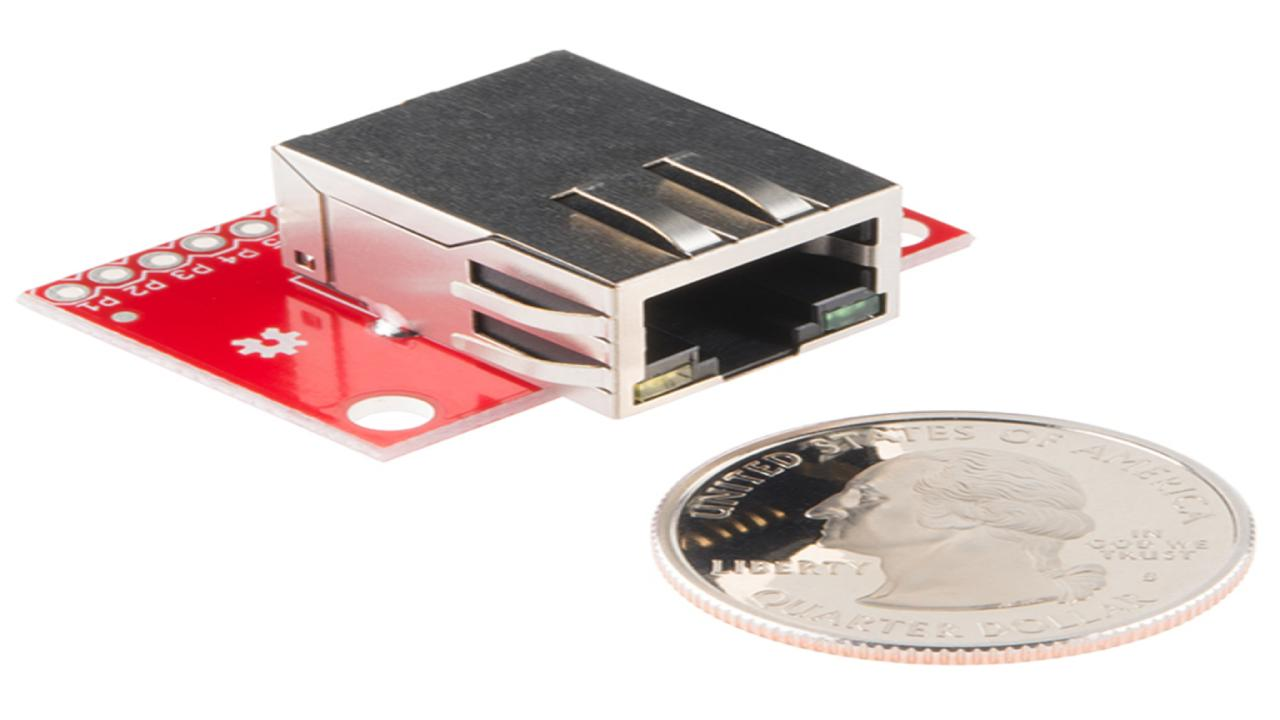coin: (646, 406, 1264, 671)
